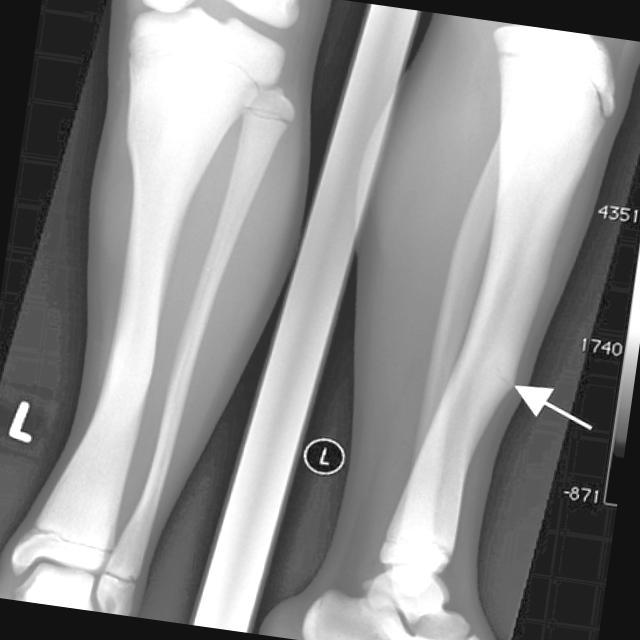HairLine Fracture: (494, 357, 517, 403)
